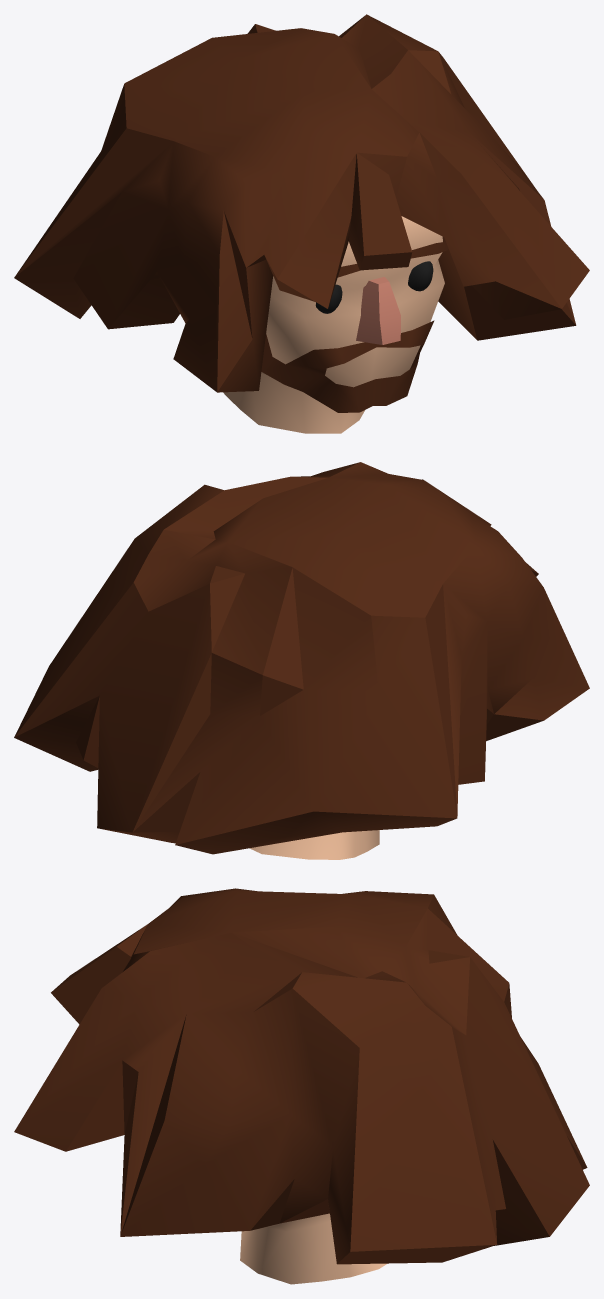
The picture shows the model from 3 angles, top to bottom: view 1: azimuth 30°, elevation 25°; view 2: azimuth 150°, elevation 25°; view 3: azimuth 270°, elevation 25°; orthographic projection. The views are drawn at different scales.
Visible parts, largest first — view 1: Zac_head_biggerHair_smootherNormals; view 2: Zac_head_biggerHair_smootherNormals; view 3: Zac_head_biggerHair_smootherNormals.
Part boxes in pixels (box(x1,y1,x2,y2)): Zac_head_biggerHair_smootherNormals: box(14, 14, 589, 433); Zac_head_biggerHair_smootherNormals: box(14, 462, 589, 859); Zac_head_biggerHair_smootherNormals: box(14, 888, 589, 1284).
Size of the model in its own units: 0.0343 by 0.0245 by 0.0361.
